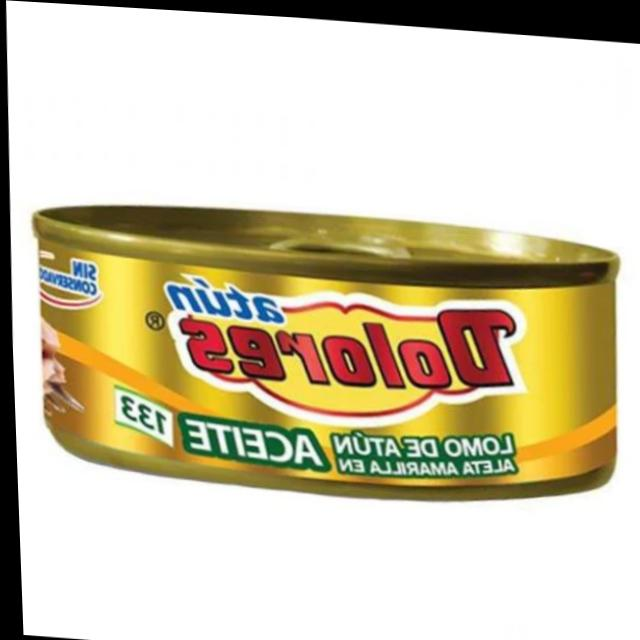Lata: (30, 195, 631, 517)
